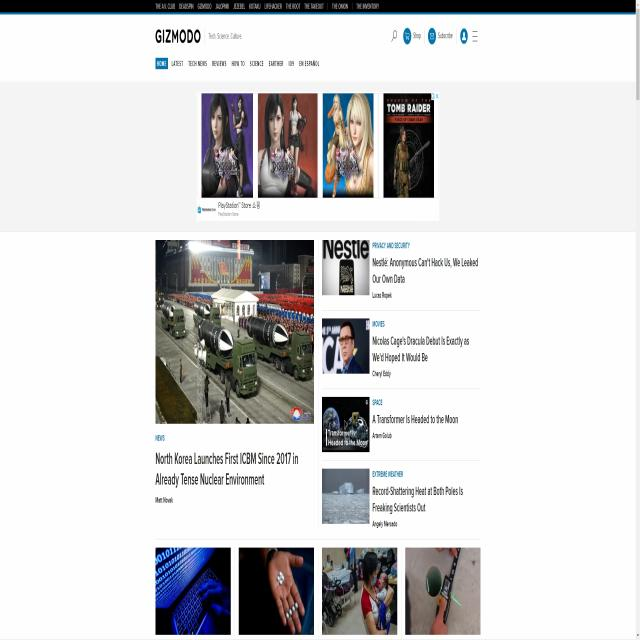menu-bar: (388, 22, 482, 54)
tab-bar: (154, 52, 320, 75)
